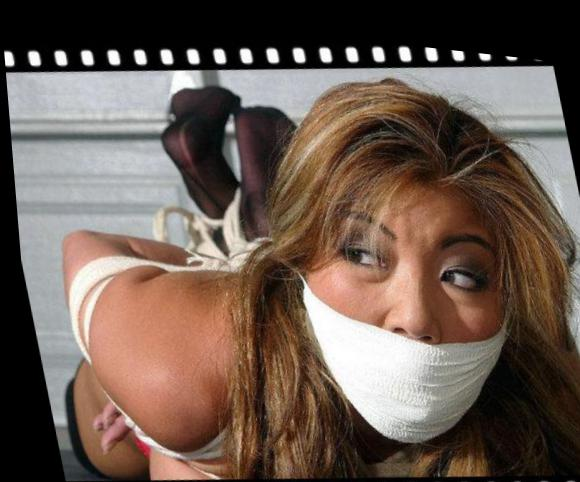WRONG: (279, 195, 532, 453)
